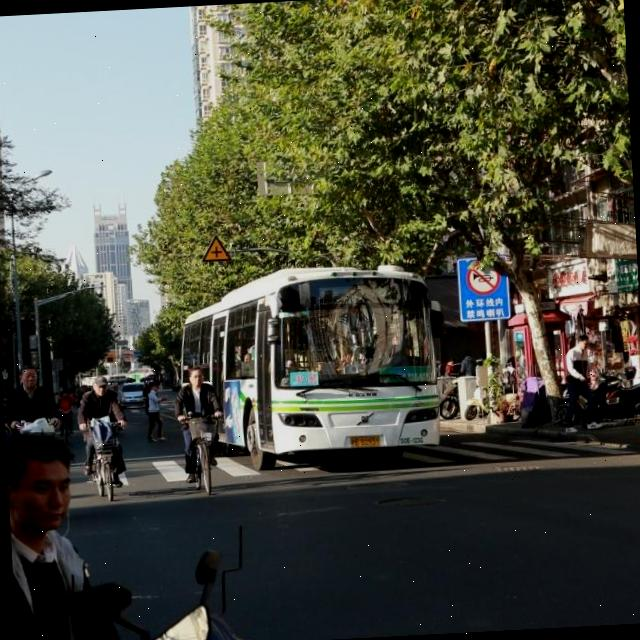curb: (486, 422, 600, 441)
